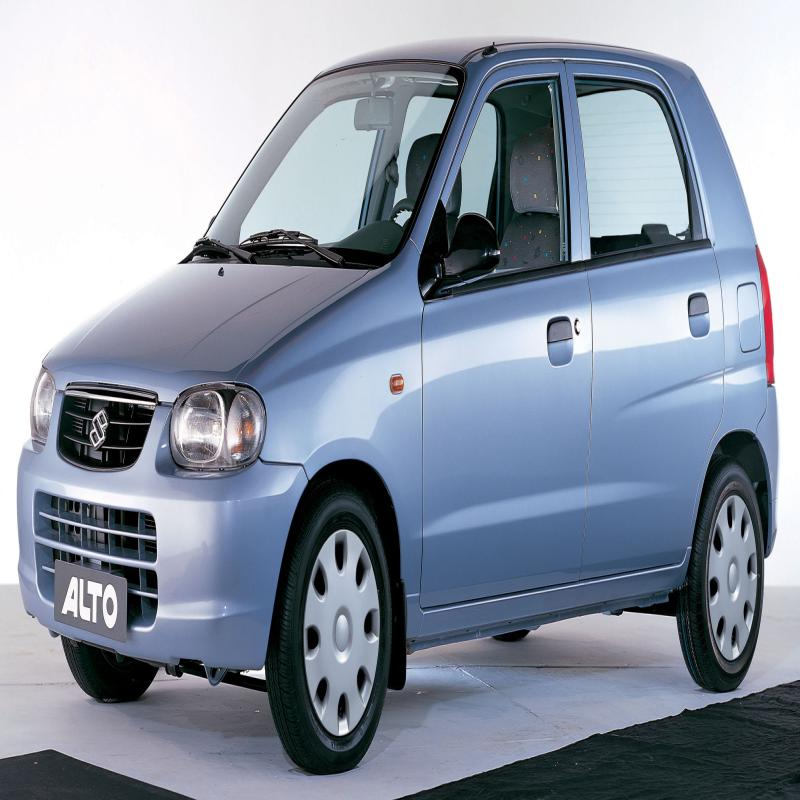car: (24, 34, 785, 758)
